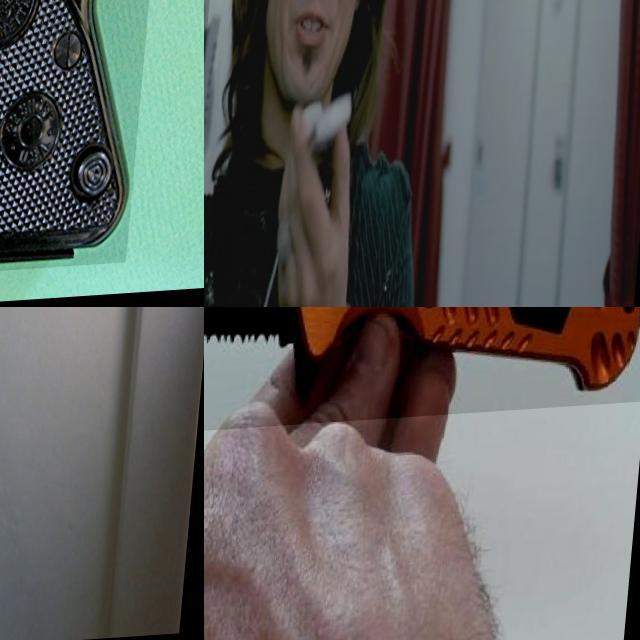-: (204, 307, 640, 453)
gun-knife-thesis - v11 Yolov5 augmented: (0, 0, 204, 299), (204, 0, 251, 222), (0, 307, 43, 489)
